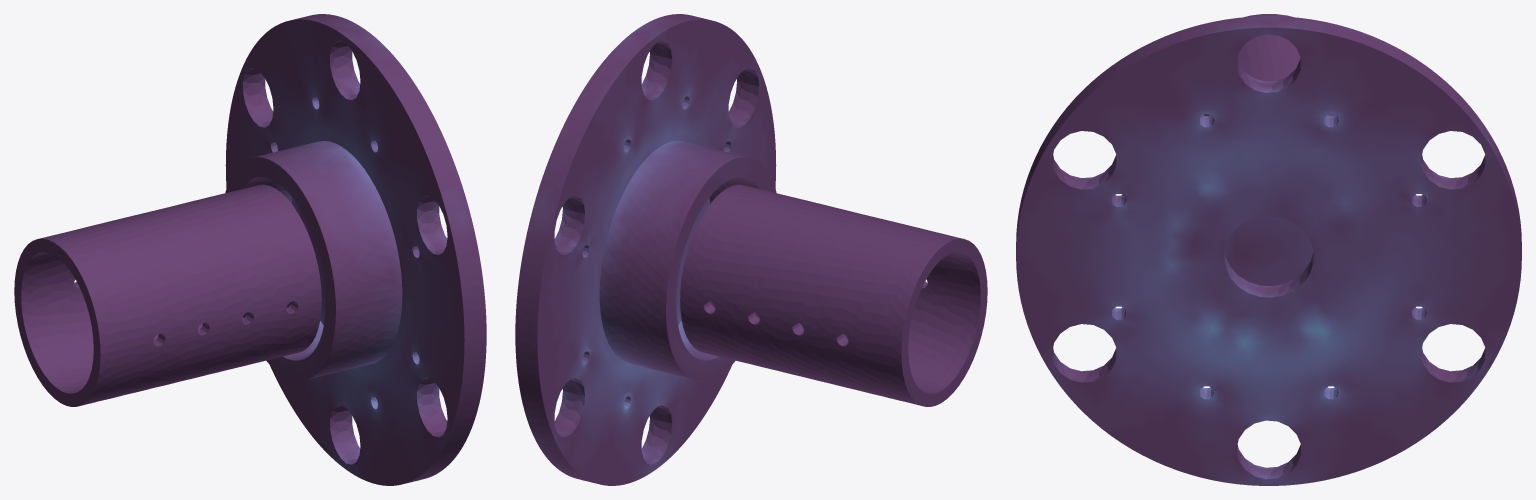
Rendered from CAD_PB-PLUG.glb.
3 views of the same model, side by side, from view 1: azimuth 30°, elevation 25°; view 2: azimuth 150°, elevation 25°; view 3: azimuth 270°, elevation 25° (orthographic). The views are drawn at different scales.
Visible parts, largest first — view 1: geometry_0; view 2: geometry_0; view 3: geometry_0.
Part boxes in pixels (<box>): geometry_0: <box>14,14,486,485</box>; geometry_0: <box>515,14,987,485</box>; geometry_0: <box>1016,14,1521,485</box>.
Size of the model in its own units: 0.21 by 0.2802 by 0.2802.
